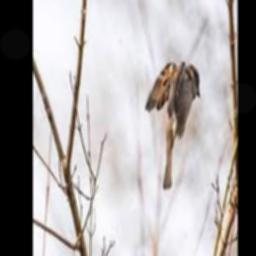Sparrow: (145, 61, 200, 189)
